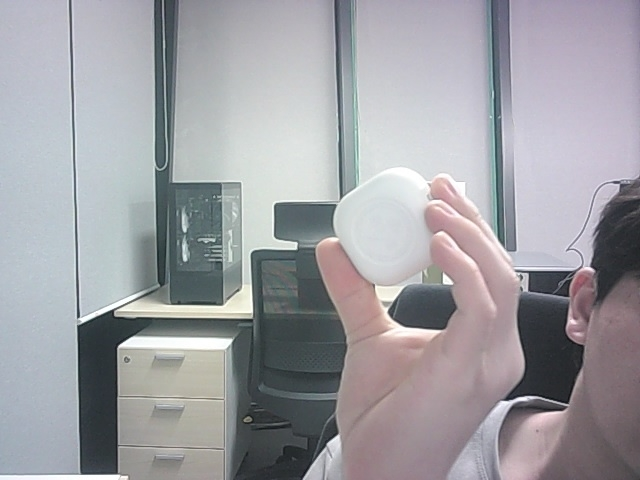case: (334, 167, 432, 285)
